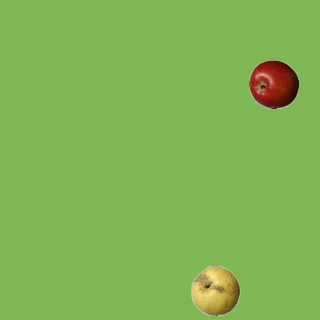Apple Braeburn: (248, 59, 298, 109)
Apple Golden 1: (190, 265, 240, 315)
